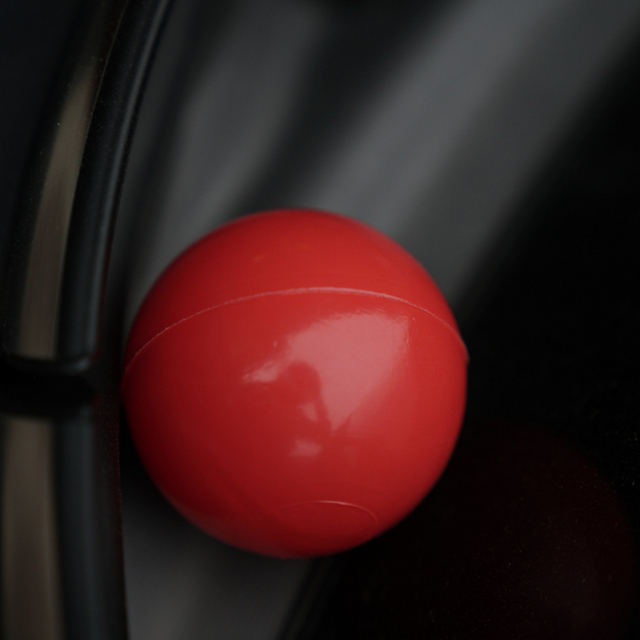Ball: (122, 208, 471, 549)
